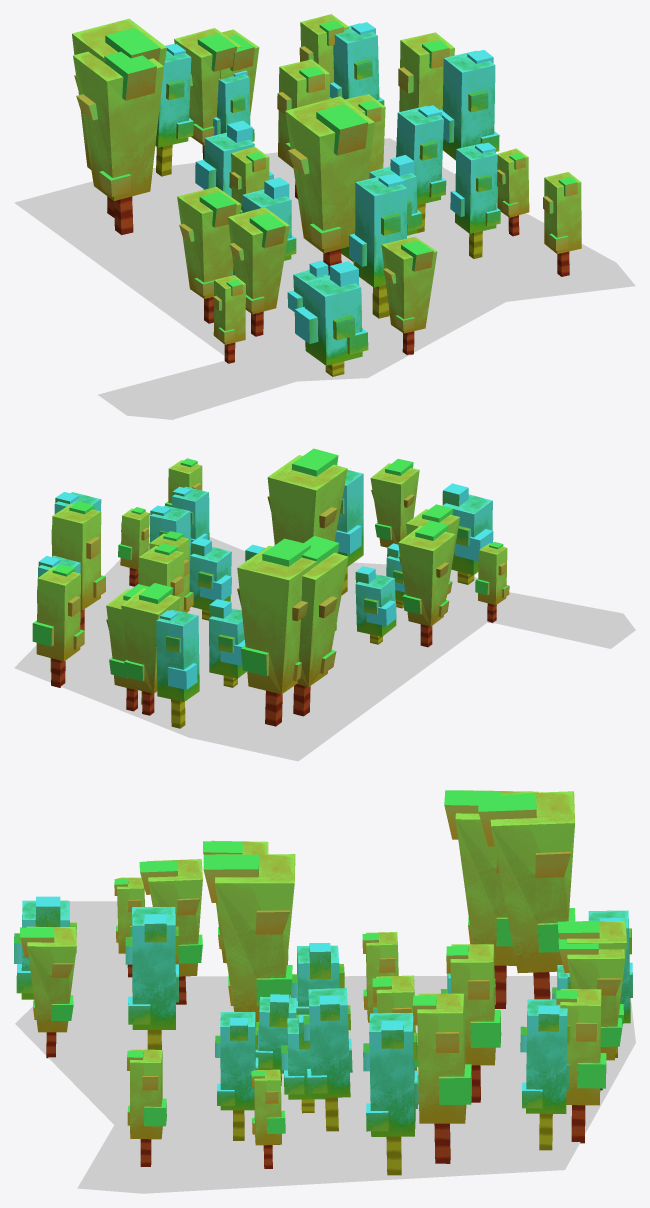
The model's file is T_TREE005.fbx.
3 views of the same model, one above another, from view 1: azimuth 30°, elevation 25°; view 2: azimuth 150°, elevation 25°; view 3: azimuth 270°, elevation 25° (orthographic). The views are drawn at different scales.
Parts seen in each view (by area): view 1: 主地02.002, 主地02.002|TREE01.001|Dupli|63, 主地02.002|TREE01.001|Dupli|51, 主地02.002|TREE02.001|Dupli|46, 主地02.002|TREE02|Dupli|56, 主地02.002|TREE01.001|Dupli|55, 主地02.002|TREE02|Dupli|60, 主地02.002|TREE01.001|Dupli|59, 主地02.002|TREE01.001|Dupli|71, 主地02.002|TREE02|Dupli|52, 主地02.002|TREE01.001|Dupli|43, 主地02.002|TREE02|Dupli|64 (+17 smaller); view 2: 主地02.002, 主地02.002|TREE01.001|Dupli|47, 主地02.002|TREE01.001|Dupli|51, 主地02.002|TREE01.001|Dupli|63, 主地02.002|TREE01.001|Dupli|55, 主地02.002|TREE01|Dupli|41, 主地02.002|TREE02|Dupli|44, 主地02.002|TREE01.001|Dupli|43, 主地02.002|TREE01|Dupli|49, 主地02.002|TREE01.001|Dupli|71, 主地02.002|TREE02.001|Dupli|46, 主地02.002|TREE02.001|Dupli|42 (+15 smaller); view 3: 主地02.002, 主地02.002|TREE01.001|Dupli|47, 主地02.002|TREE01.001|Dupli|51, 主地02.002|TREE01|Dupli|49, 主地02.002|TREE01.001|Dupli|63, 主地02.002|TREE02|Dupli|60, 主地02.002|TREE02|Dupli|56, 主地02.002|TREE02|Dupli|48, 主地02.002|TREE02|Dupli|64, 主地02.002|TREE01|Dupli|65, 主地02.002|TREE01.001|Dupli|71, 主地02.002|TREE01|Dupli|41 (+15 smaller).
Part boxes in pixels (bbox=[...]): 主地02.002: bbox=[14, 138, 635, 419]; 主地02.002|TREE01.001|Dupli|63: bbox=[73, 51, 164, 234]; 主地02.002|TREE01.001|Dupli|51: bbox=[285, 96, 374, 275]; 主地02.002|TREE02.001|Dupli|46: bbox=[294, 261, 368, 376]; 主地02.002|TREE02|Dupli|56: bbox=[349, 173, 407, 318]; 主地02.002|TREE01.001|Dupli|55: bbox=[177, 187, 241, 323]; 主地02.002|TREE02|Dupli|60: bbox=[440, 50, 499, 160]; 主地02.002|TREE01.001|Dupli|59: bbox=[228, 207, 289, 336]; 主地02.002|TREE01.001|Dupli|71: bbox=[381, 236, 437, 354]; 主地02.002|TREE02|Dupli|52: bbox=[450, 142, 500, 258]; 主地02.002|TREE01.001|Dupli|43: bbox=[174, 28, 241, 159]; 主地02.002|TREE02|Dupli|64: bbox=[390, 105, 446, 233]; 主地02.002: bbox=[14, 534, 635, 761]; 主地02.002|TREE01.001|Dupli|47: bbox=[237, 538, 318, 726]; 主地02.002|TREE01.001|Dupli|51: bbox=[267, 448, 347, 544]; 主地02.002|TREE01.001|Dupli|63: bbox=[293, 535, 348, 716]; 主地02.002|TREE01.001|Dupli|55: bbox=[398, 520, 455, 647]; 主地02.002|TREE01|Dupli|41: bbox=[32, 564, 84, 687]; 主地02.002|TREE02|Dupli|44: bbox=[156, 610, 199, 728]; 主地02.002|TREE01.001|Dupli|43: bbox=[121, 583, 180, 715]; 主地02.002|TREE01|Dupli|49: bbox=[51, 501, 105, 630]; 主地02.002|TREE01.001|Dupli|71: bbox=[370, 459, 419, 547]; 主地02.002|TREE02.001|Dupli|46: bbox=[442, 483, 493, 584]; 主地02.002|TREE02.001|Dupli|42: bbox=[209, 599, 246, 687]; 主地02.002: bbox=[15, 901, 635, 1193]; 主地02.002|TREE01.001|Dupli|47: bbox=[478, 791, 575, 999]; 主地02.002|TREE01.001|Dupli|51: bbox=[203, 854, 295, 1021]; 主地02.002|TREE01|Dupli|49: bbox=[412, 993, 471, 1163]; 主地02.002|TREE01.001|Dupli|63: bbox=[444, 790, 538, 1008]; 主地02.002|TREE02|Dupli|60: bbox=[363, 1013, 418, 1175]; 主地02.002|TREE02|Dupli|56: bbox=[125, 907, 178, 1049]; 主地02.002|TREE02|Dupli|48: bbox=[520, 999, 570, 1150]; 主地02.002|TREE02|Dupli|64: bbox=[303, 988, 352, 1131]; 主地02.002|TREE01|Dupli|65: bbox=[446, 944, 501, 1102]; 主地02.002|TREE01.001|Dupli|71: bbox=[20, 926, 76, 1058]; 主地02.002|TREE01|Dupli|41: bbox=[556, 989, 606, 1143].
Size of the model in its own units: 3202 by 1088 by 2876.
